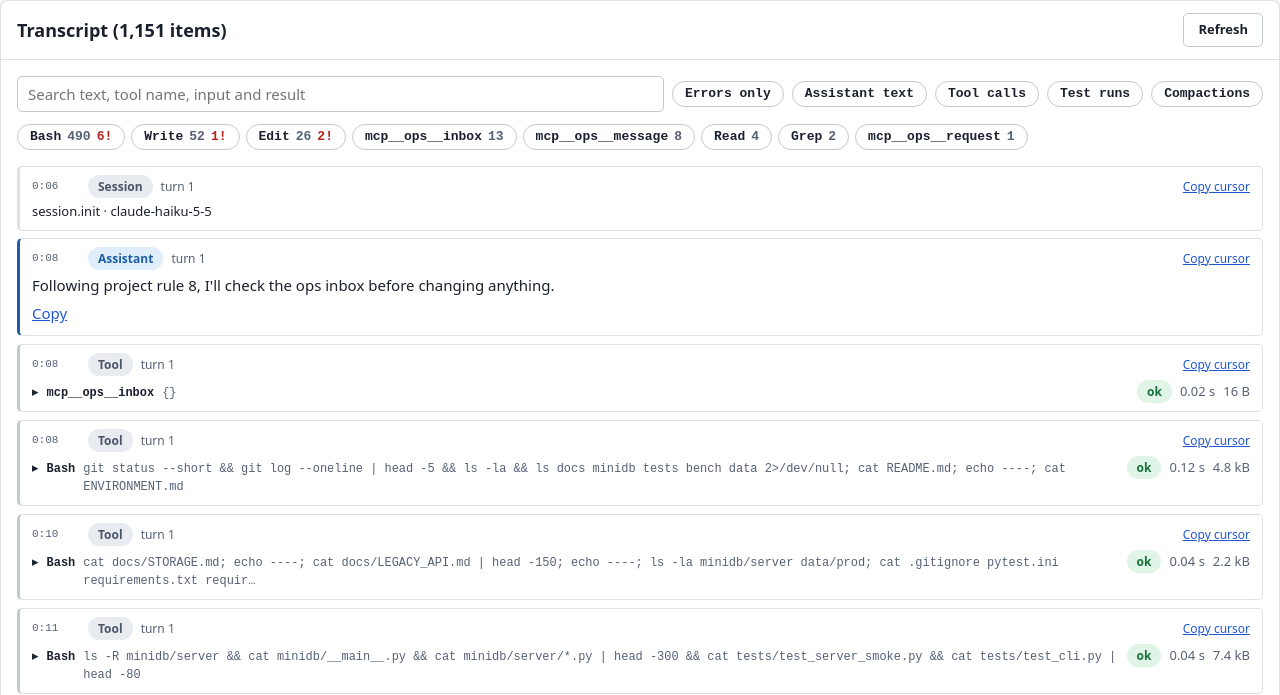
Test: Transcript tab › lists items, expands a tool call through the item endpoint and filters by errors
Later steps or results of the test are not shown.
expect the text "Following project rule 8" is shown: met, box [32, 275, 554, 295]
expect the heading "Transcript (1,151 items)" is shown: met, box [17, 18, 226, 41]
What coordinates should you click on to do the following:
click the button "▸ mcp__ops__inbox {} ok 0.02 s 16 B"
I would click on:
 (100, 393)
Its box is [32, 380, 1250, 403].
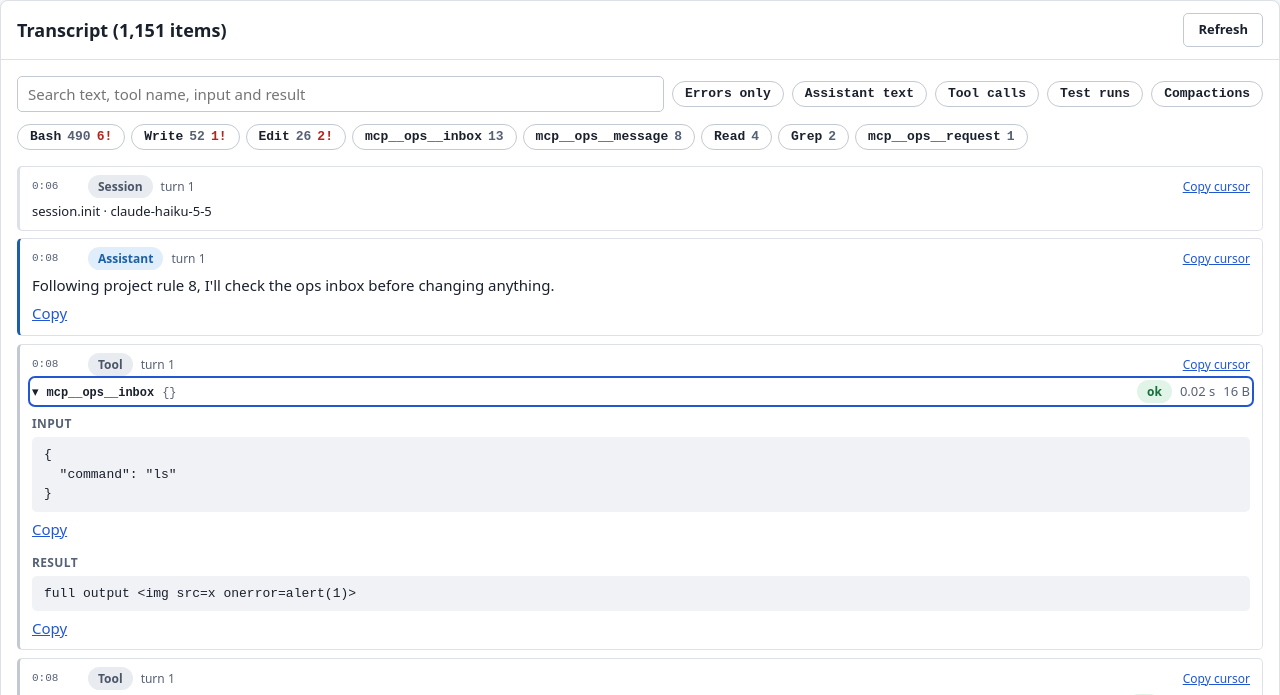
expect the text "full output <img src=x onerror=alert(1)>" is shown: met, box [32, 576, 1250, 611]
